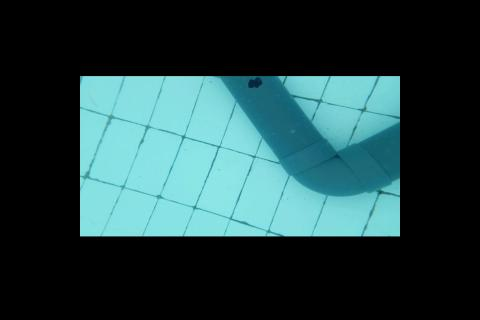kebocoran: (246, 75, 264, 88)
